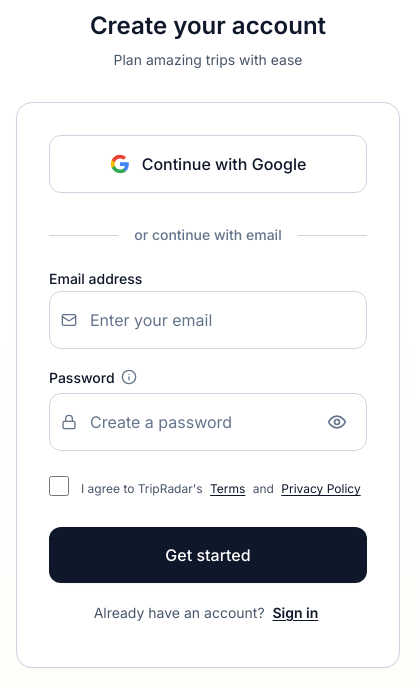
Test: Signup Component › Password hint/error mutual exclusivity (Requirements 1.1, 1.2, 1.5) › should display password hint in tooltip when hovering info icon
# Hover over info button to show tooltip
Hover over the button named "Password requirements" at (129, 377), box top-left (117, 365), bottom-right (141, 389)
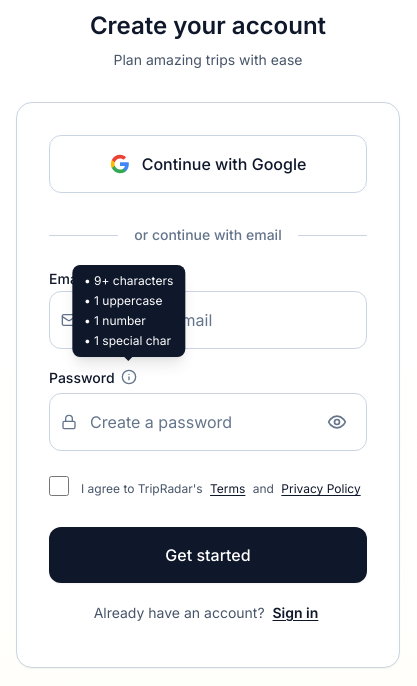
Now the text "• 9+ characters" is shown, box top-left (84, 273), bottom-right (173, 289)
Now the text "• 1 uppercase" is shown, box top-left (84, 293), bottom-right (173, 309)
Now the text "• 1 number" is shown, box top-left (84, 313), bottom-right (146, 328)
# Mouse leave should hide tooltip
Move the pointer off the button named "Password requirements", box top-left (117, 365), bottom-right (141, 389)
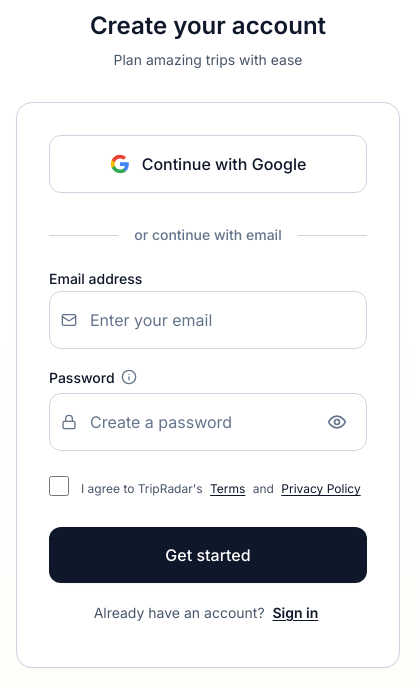
Now the text "• 9+ characters" is gone
